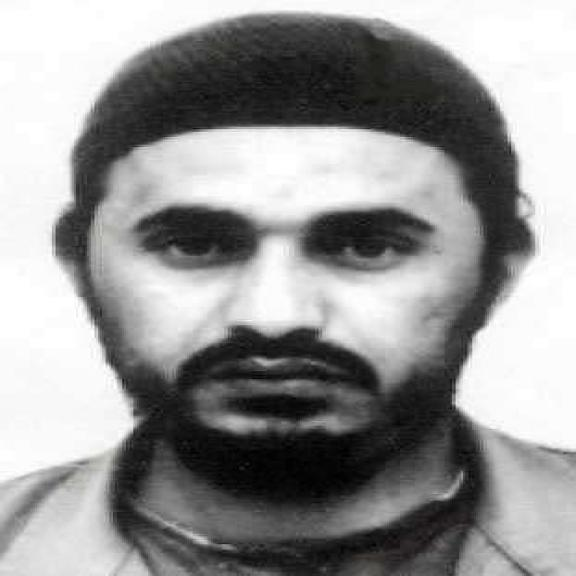face: (58, 68, 536, 469)
